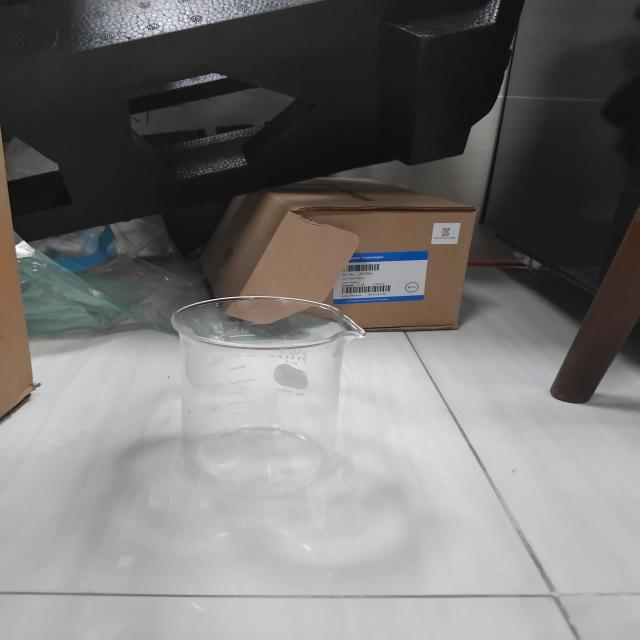Beaker: (125, 246, 382, 534)
